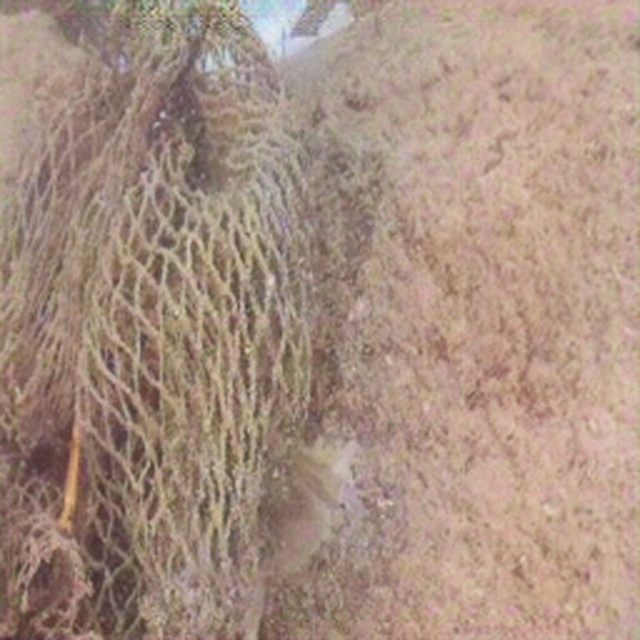mine: (0, 0, 312, 639)
